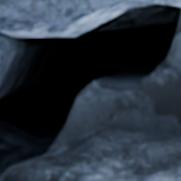brick: (0, 127, 180, 180), (0, 0, 180, 35)
crack: (0, 2, 180, 178)
